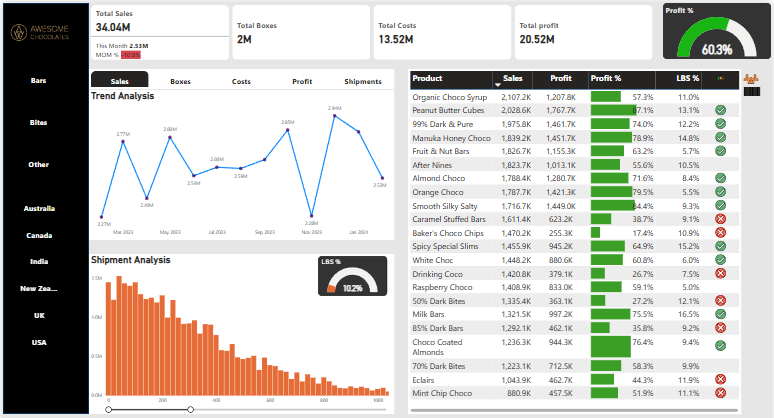

The page's visual inventory and layout, read from the dashboard file:
{"tool":"powerbi","page":{"name":"Dashboard","canvas":[1920,1080],"ordinal":0},"visuals":[{"type":"shape","box":[0,0,215,1027.5],"z":0},{"type":"cardVisual","fields":{"Data":["_Measures.Total Sales","_Measures.Total Boxes","_Measures.Total Costs","_Measures.Total profit"]},"box":[215,0,1415,147.5],"z":1000},{"type":"gauge","fields":{"Y":["_Measures.Profit %"]},"box":[1650,0,270,140],"z":2000},{"type":"lineChart","title":"Trend Analysis","fields":{"Y":["_Measures.Total Sales"],"Category":["calendar.Start of Month"]},"box":[215,217.5,762.5,375],"z":3000},{"type":"advancedSlicerVisual","fields":{"Values":["Measure Selector.Measure Selector"]},"box":[215,165,762.5,50],"z":4000},{"type":"columnChart","title":"Shipment Analysis","fields":{"Category":["shipments.Boxes (bins)"],"Y":["_Measures.Total Sales"]},"box":[215,627.5,762.5,400],"z":5000},{"type":"tableEx","title":"Product Details","fields":{"Values":["shipments.Product","_Measures.Total Sales","_Measures.Total profit","_Measures.Profit %","_Measures.LBS %","_Measures._profit Target Indicator"]},"box":[1012.5,165,832.5,862.5],"z":8000},{"type":"advancedSlicerVisual","fields":{"Values":["products.Category"]},"box":[23.3,140,133.3,315],"z":9000},{"type":"advancedSlicerVisual","fields":{"Values":["shipments.Geography"]},"box":[26,478,132,408],"z":10000},{"type":"image","box":[1840,165,60,50],"z":11000},{"type":"image","box":[1845,190,55,62.5],"z":12000},{"type":"gauge","fields":{"Y":["_Measures.LBS %"]},"box":[787.5,632.5,172.5,100],"z":12500},{"type":"image","box":[12,0,158,148],"z":13001}]}

Visuals, with their boxes on the page's 1920x1080 design canvas (x1, y1, x2, y2). These are canvas units, not pixel positions in the 774x418 screenshot, which may show the page scaled, cropped or inside an application window:
shape: <bbox>0, 0, 215, 1028</bbox>
cardVisual - _Measures.Total Sales x _Measures.Total Boxes: <bbox>215, 0, 1630, 148</bbox>
gauge - _Measures.Profit %: <bbox>1650, 0, 1920, 140</bbox>
"Trend Analysis" lineChart: <bbox>215, 218, 978, 592</bbox>
advancedSlicerVisual - Measure Selector.Measure Selector: <bbox>215, 165, 978, 215</bbox>
"Shipment Analysis" columnChart: <bbox>215, 628, 978, 1028</bbox>
"Product Details" tableEx: <bbox>1012, 165, 1845, 1028</bbox>
advancedSlicerVisual - products.Category: <bbox>23, 140, 157, 455</bbox>
advancedSlicerVisual - shipments.Geography: <bbox>26, 478, 158, 886</bbox>
image: <bbox>1840, 165, 1900, 215</bbox>
image: <bbox>1845, 190, 1900, 252</bbox>
gauge - _Measures.LBS %: <bbox>788, 632, 960, 732</bbox>
image: <bbox>12, 0, 170, 148</bbox>
